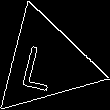L_N: (25, 34, 67, 92)
